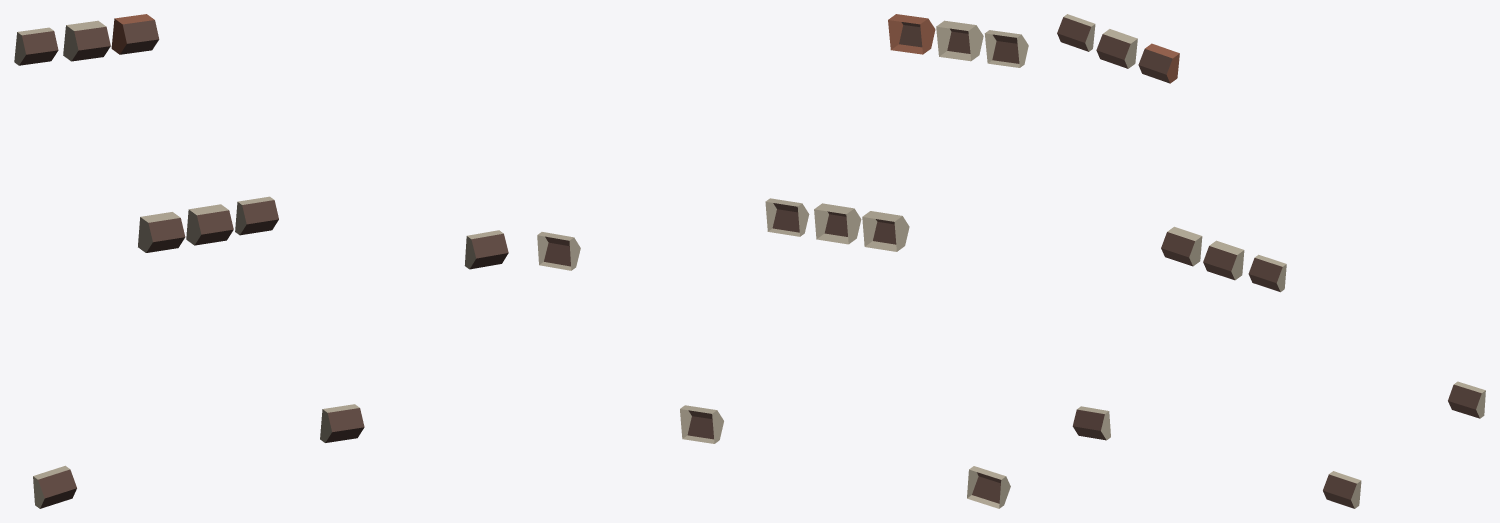
File: island_bldg_13_05.obj
3 renders of one model, left to right at view 1: azimuth 30°, elevation 25°; view 2: azimuth 150°, elevation 25°; view 3: azimuth 330°, elevation 25°, orthographic. The views are drawn at different scales.
Visible parts, largest first — view 1: island_bldg_13_05; view 2: island_bldg_13_05; view 3: island_bldg_13_05.
Boxes of the visible parts, bbox=[...] form: island_bldg_13_05: bbox=[14, 14, 508, 508]; island_bldg_13_05: bbox=[537, 14, 1028, 508]; island_bldg_13_05: bbox=[1057, 14, 1485, 508].
Bounding box in the file's own units: 238 × 228 × 12.33.
